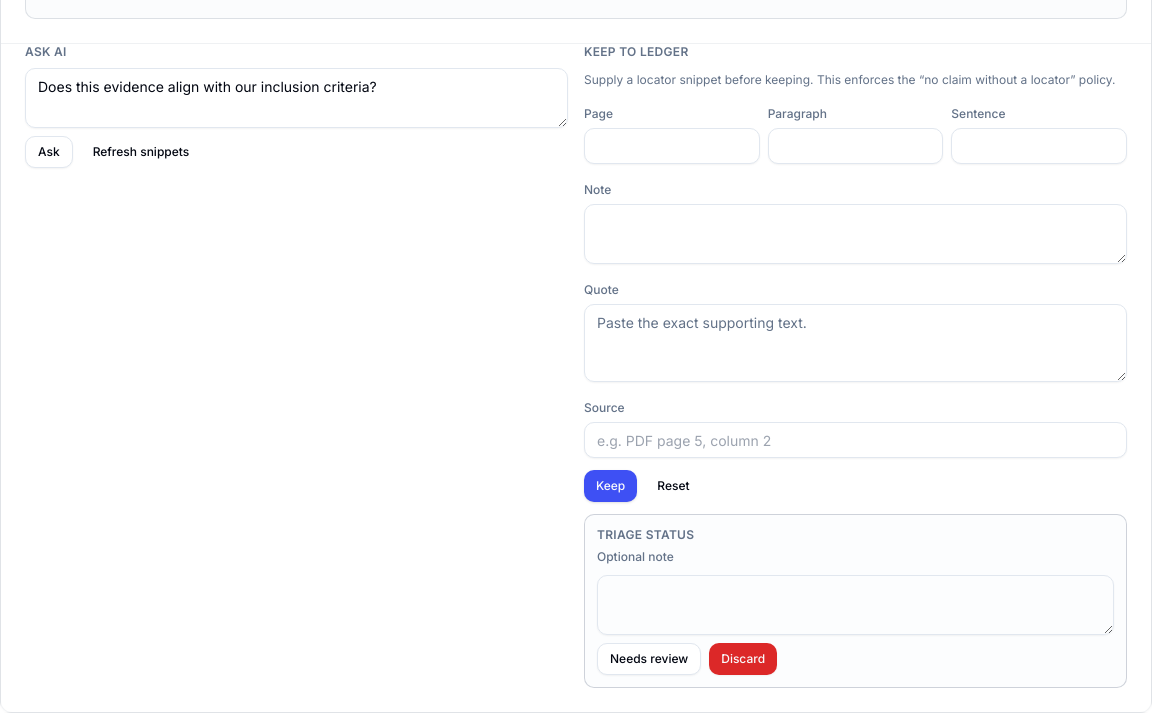
CandidateCard triage actions › discards a candidate and records reason
(page scrolled)
Type "Irrelevant scope" into the text box with test id "candidate-1-triage-note-input" at (856, 605), box [597,575,1114,635]
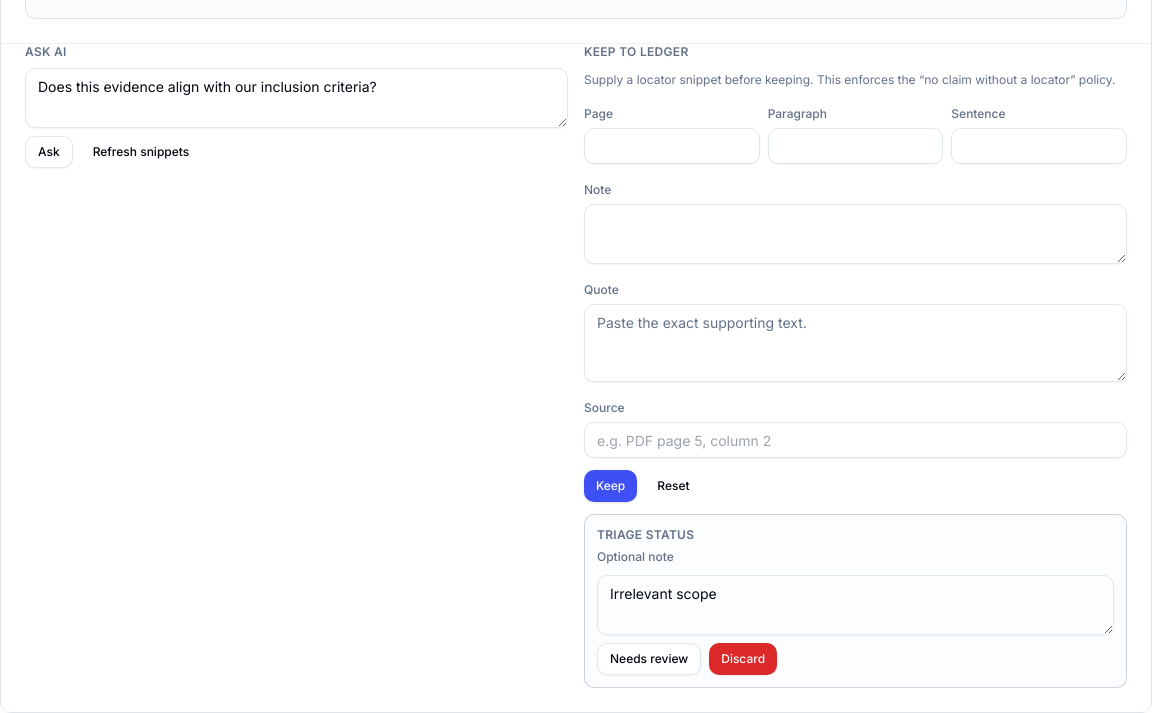
Click the button "Discard" at (743, 659), box [709,643,777,675]
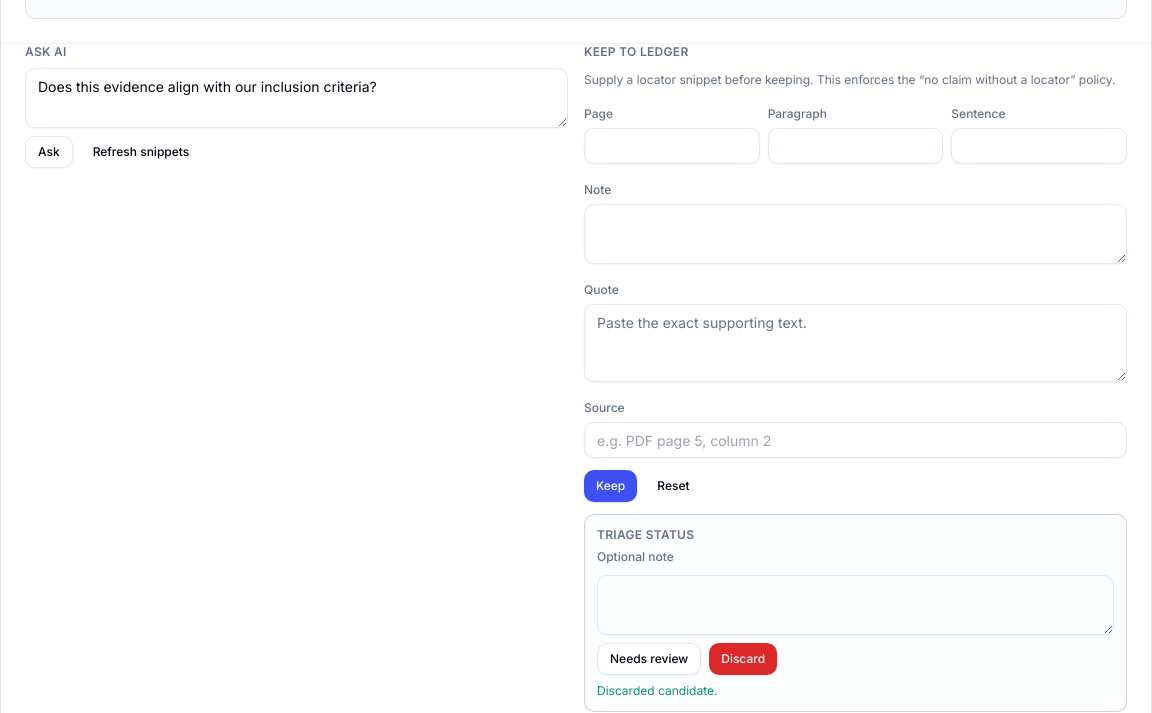
Expected: the text "Discarded candidate." is shown, [597,683,717,698]
